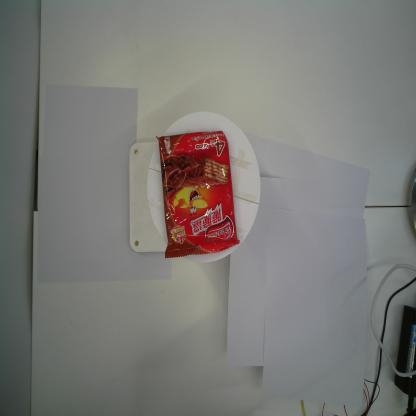Dessert: (154, 130, 240, 259)
